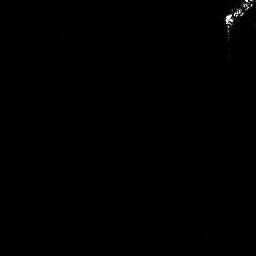ship: (222, 1, 256, 37)
